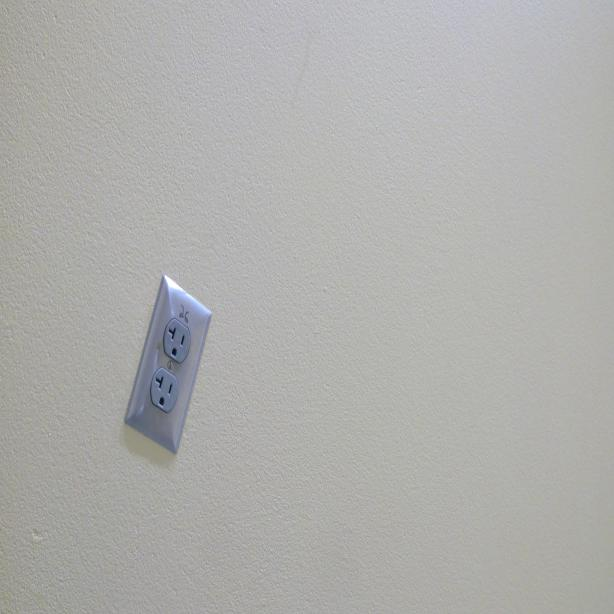typeb: (150, 372, 179, 413), (163, 320, 190, 362)
